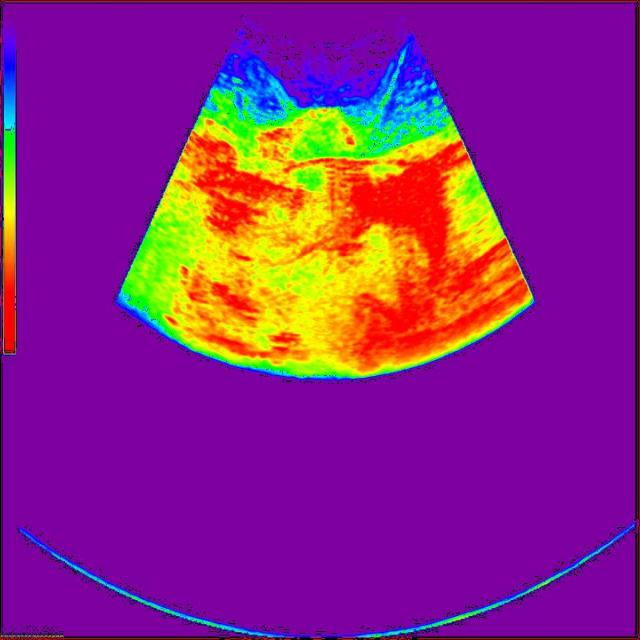chicken muscle post: (258, 108, 356, 165)
